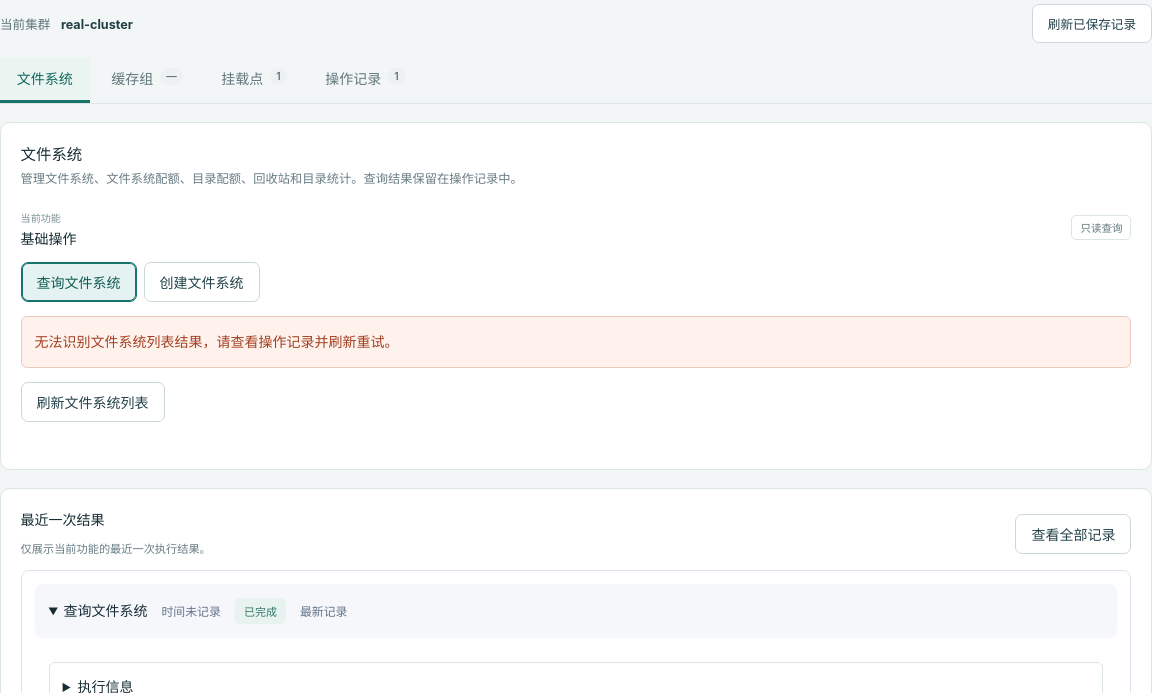
Test: workspace shows one resource area and keeps history separate
The width and height of the screenshot is (1152, 693).
Check: the element "文件系统" is shown, box [0,122,1151,470]
Step 1. Click the button "缓存组 —" → (147, 80), box [94,56,200,103]
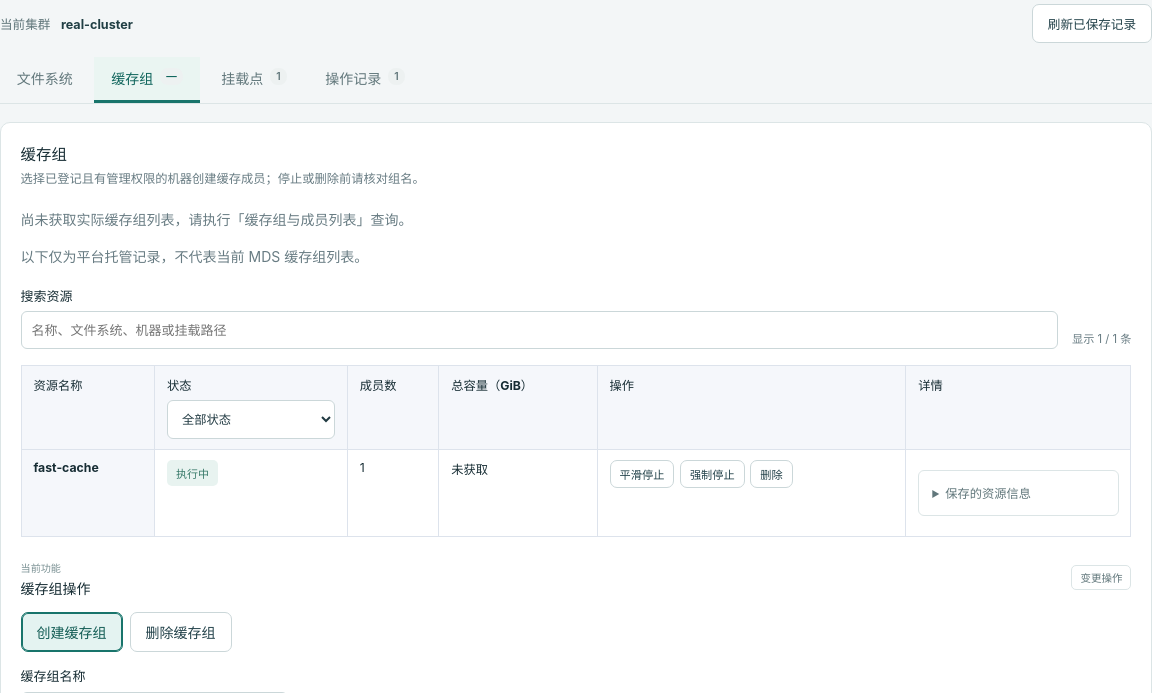
Step 2. Click the button "操作记录 1" → (365, 80), box [308,56,421,103]
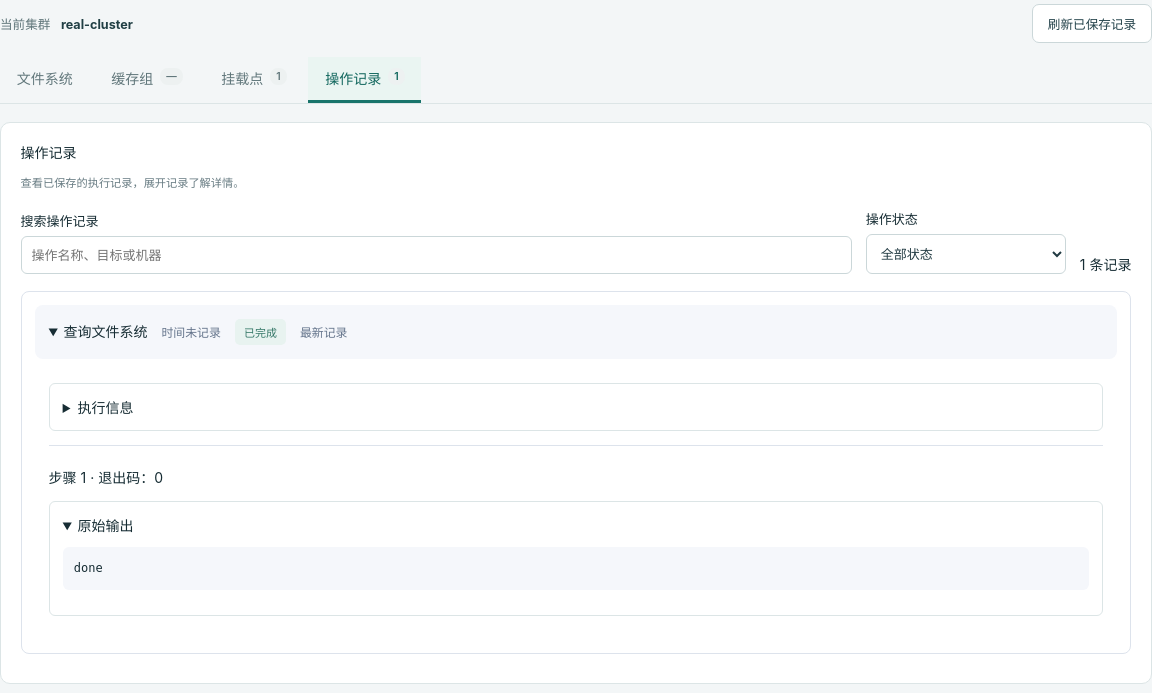
Check: the element named "资源操作记录" is shown
